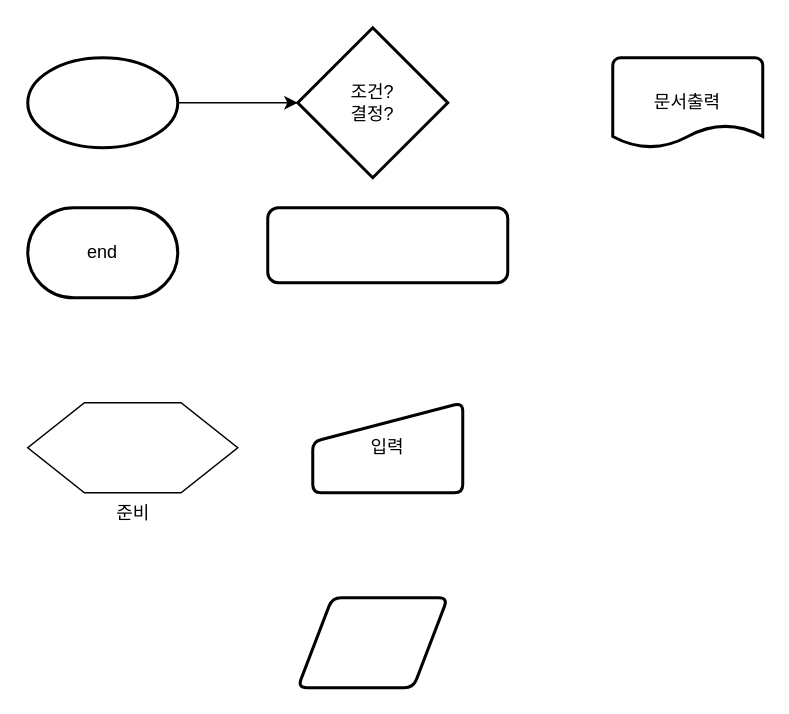
Image size: 789x714. Some labels were removed from this diagram. Here are the shapes that lost their labels. From the top down, the centre of each, then its label:
At point (102, 102): "Start".
At point (387, 245): "처리".
At point (372, 642): "입/출력".
